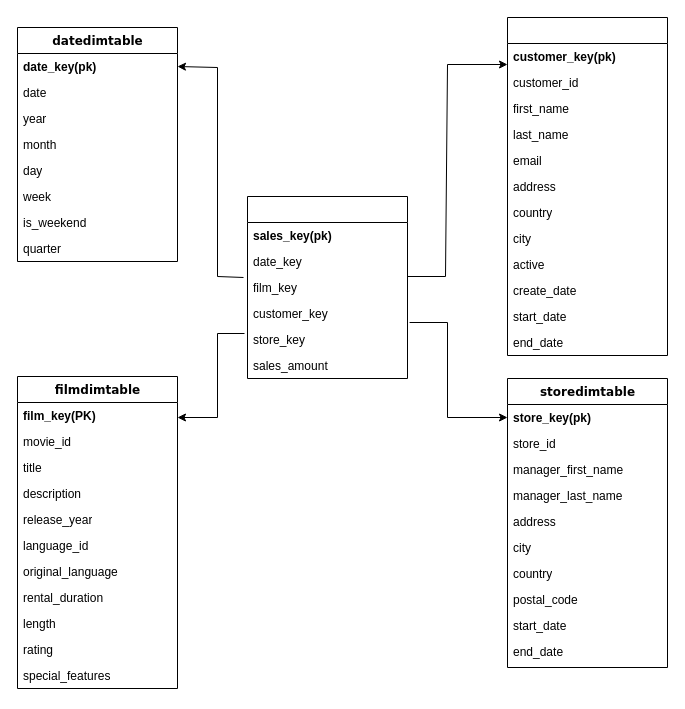
The diagram is 685 pixels wide and 709 high, and some of its shapes have lost their labels. The shapes that lost their labels are listed below. From the top down, each one's box as (x1, y1, x2, y2) in pixels, then its label:
(506, 16, 668, 356): cusdimtable
(246, 196, 408, 378): salesfacttable
